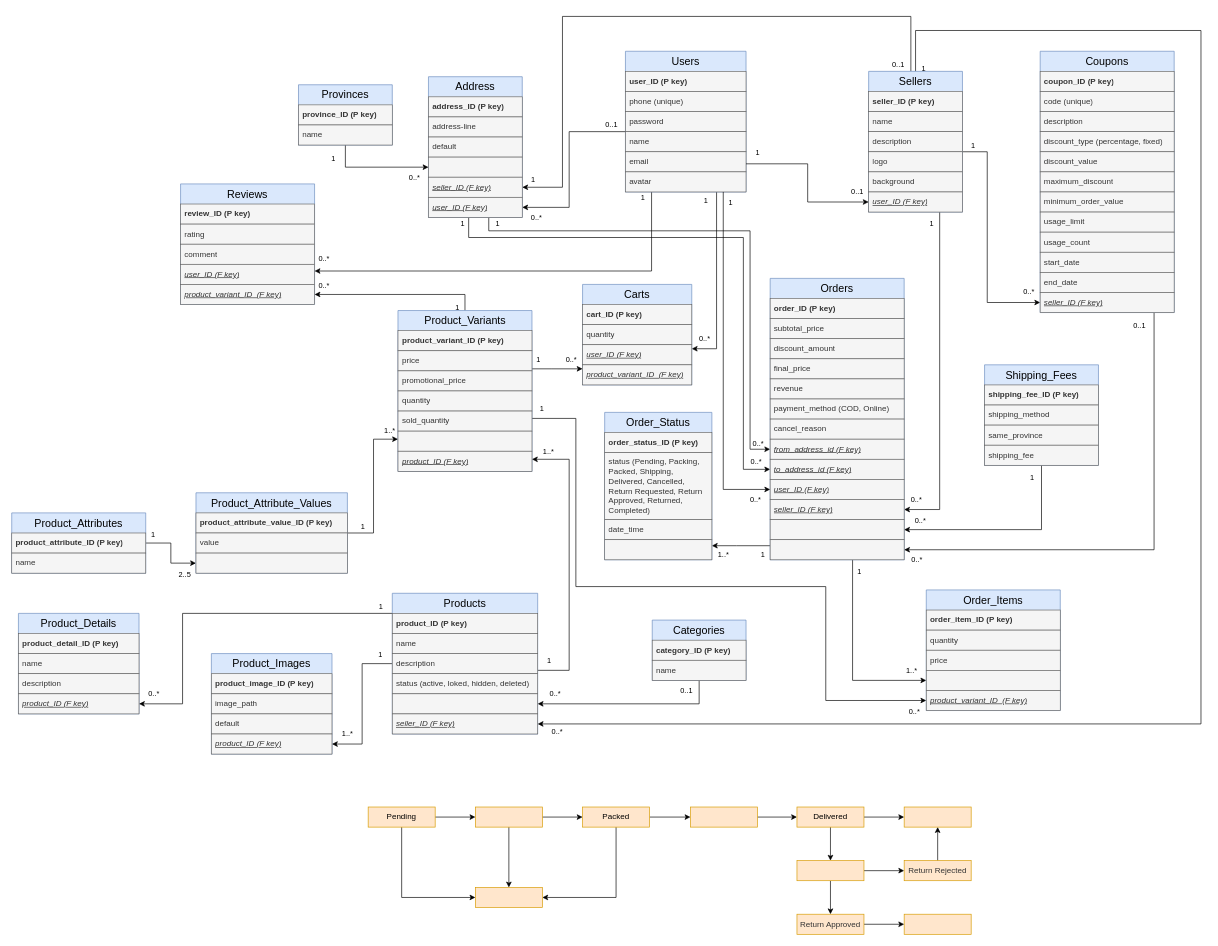
This 1218x946 diagram has some shape labels left out. Here are the shapes that lost their labels. From the top down, the centre of each, then its label:
(475,166): province_ID (F key)
(464,440): product_attribute_value_ID (F key)
(658,549): orders_ID (F key)
(836,529): shipping_fee_ID (F key)
(836,549): coupon_ID (F key)
(271,562): product_attribute_ID (F key)
(993,680): order_ID (F key)
(465,703): category_ID (F key)
(508,816): Packing
(723,816): Shipping
(937,816): Completed
(830,870): Return Requested
(508,897): Cenceled
(937,924): Returned
